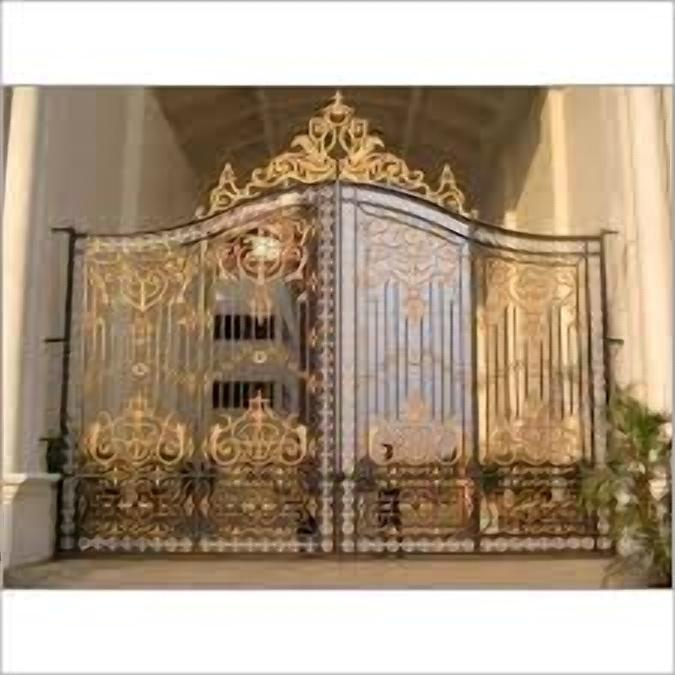Gate: (34, 86, 625, 559)
